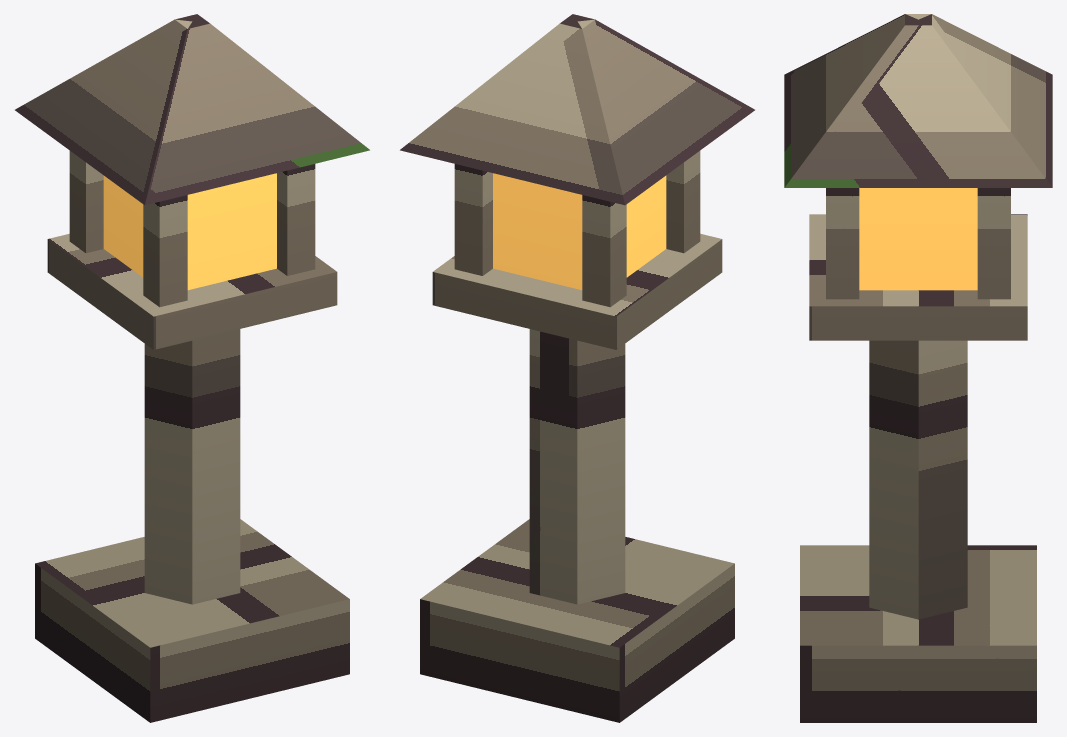
File: stone_lantern.glb
3 views of the same model, side by side, from view 1: azimuth 30°, elevation 25°; view 2: azimuth 150°, elevation 25°; view 3: azimuth 270°, elevation 25° (orthographic). The views are drawn at different scales.
Parts seen in each view (by area): view 1: stone_lantern; view 2: stone_lantern; view 3: stone_lantern.
Boxes of the visible parts, x1,y1,x2,y2 form: stone_lantern: [15, 14, 369, 722]; stone_lantern: [400, 14, 754, 722]; stone_lantern: [784, 14, 1052, 722].
Bounding box in the file's own units: 0.5657 × 1.52 × 0.5657.
Materials: 3 (1 with a texture image).
